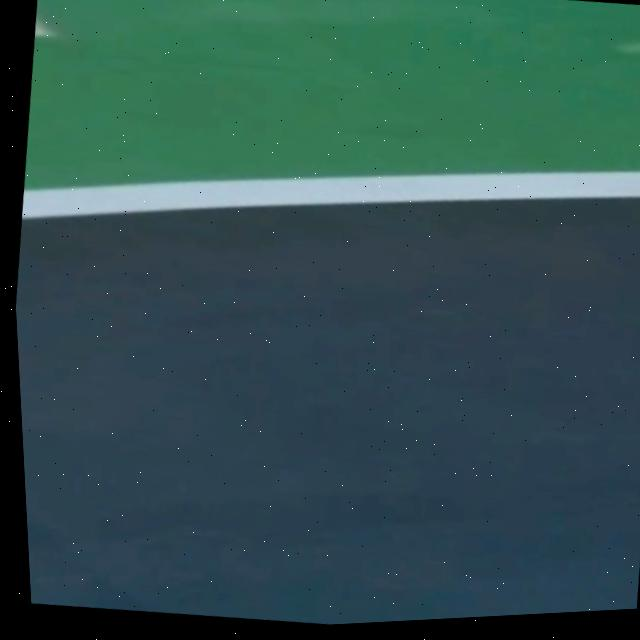right: (21, 172, 640, 218)
